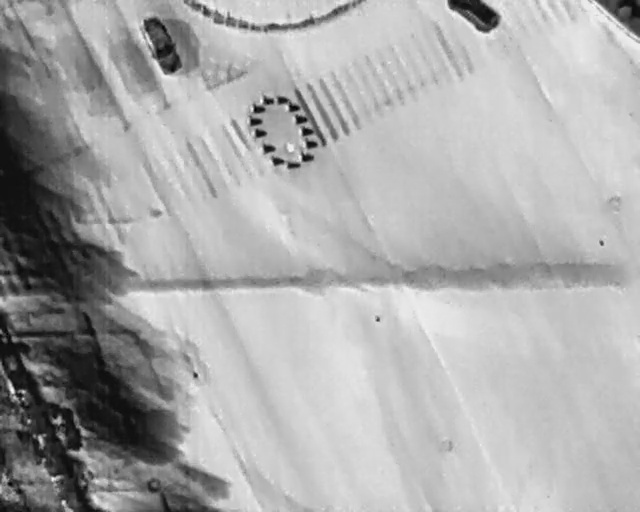Car: (134, 11, 186, 78), (449, 0, 502, 35)
